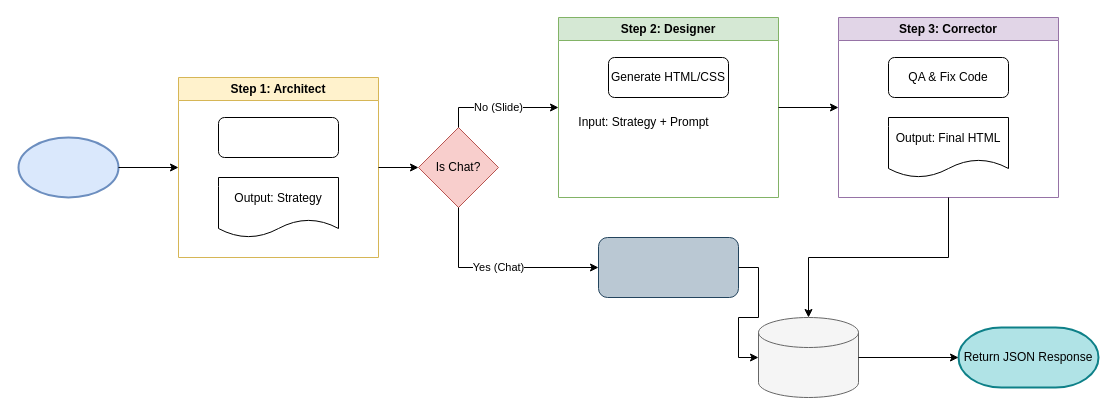
Image size: 1116x415. Some labels were removed from this diagram. The shapes that lost their labels are listed below. From the top down, each one's centre as x and y in pixels, then its label:
At (x=278, y=137): "Analyze Intent".
At (x=68, y=167): "User Request".
At (x=668, y=267): "Generate Text Reply".
At (x=808, y=357): "Persist to MongoDB".
